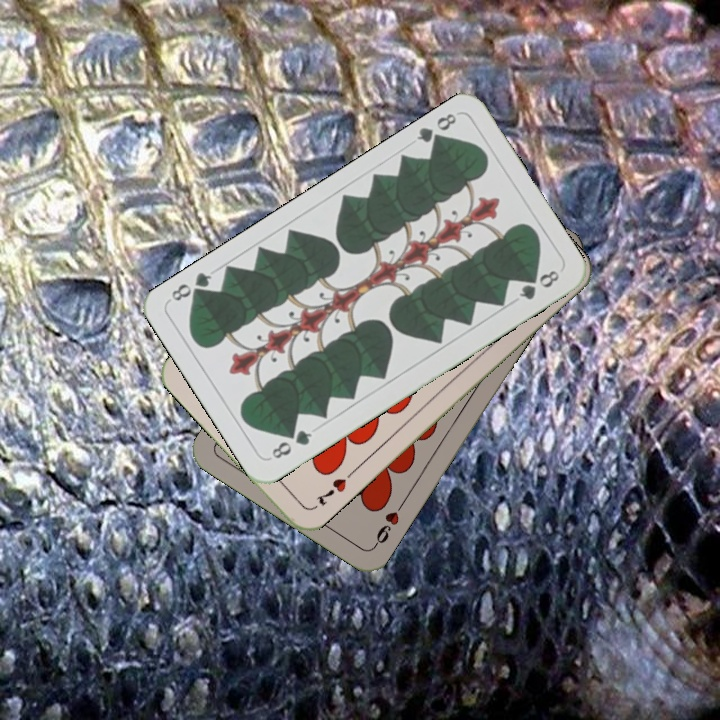G8: (413, 109, 459, 150), (267, 425, 315, 462)
H7: (311, 474, 349, 508)
H9: (369, 497, 408, 550)
